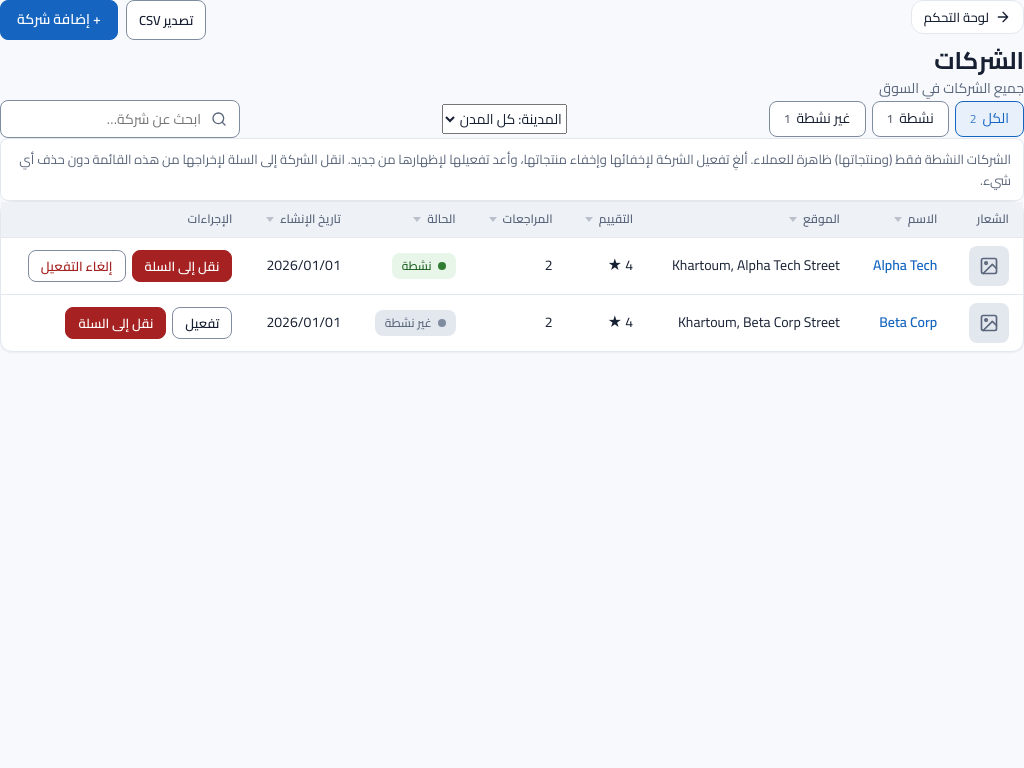
Test: Arabic › shows the Arabic buttons and confirmation, right-to-left
The image size is (1024, 768).
Click the button "نقل إلى السلة" in the row of "Khartoum, Alpha Tech Street".
click(182, 266)  # box x1=132 y1=250 x2=232 y2=282
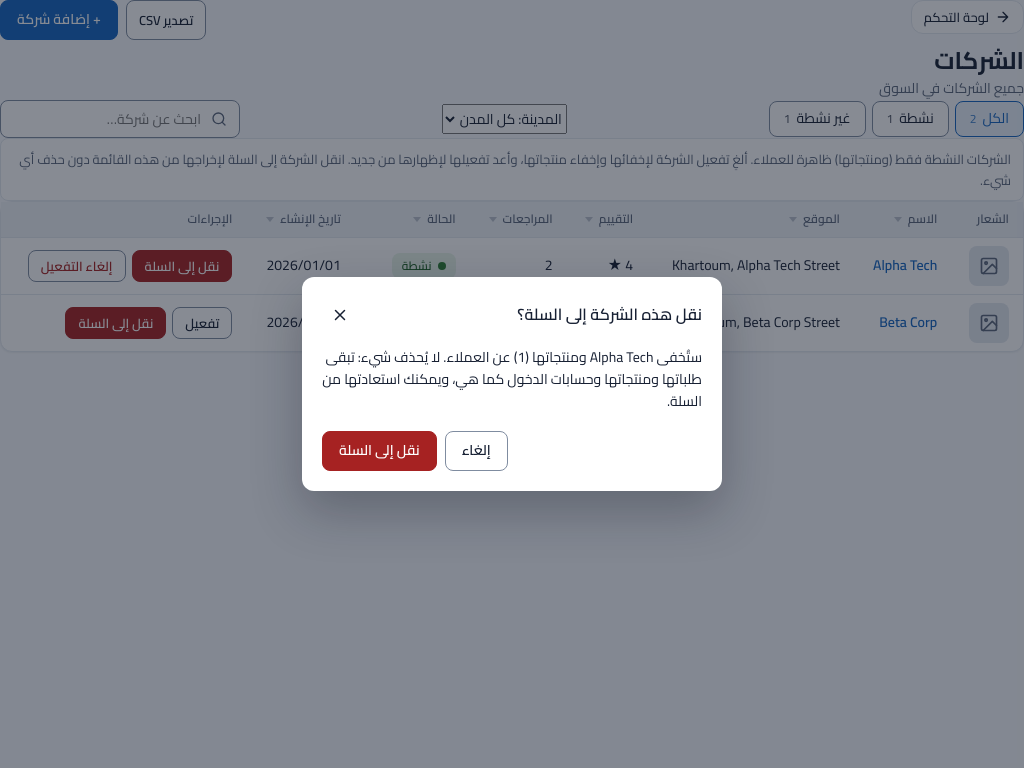
Now the dialog shows "لا يُحذف شيء", box x1=322 y1=344 x2=702 y2=414
Now the dialog shows "من السلة", box x1=322 y1=344 x2=702 y2=414
